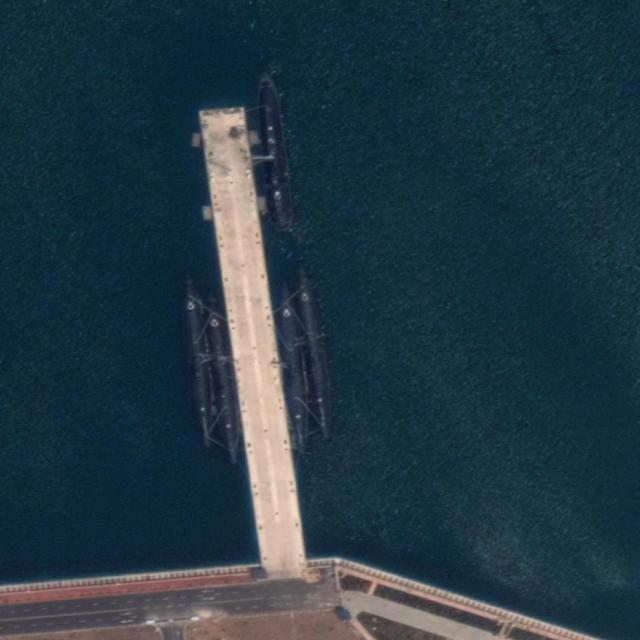Submarine: (290, 264, 338, 444), (270, 284, 319, 459), (200, 289, 248, 464), (178, 274, 222, 451), (254, 76, 294, 244)
